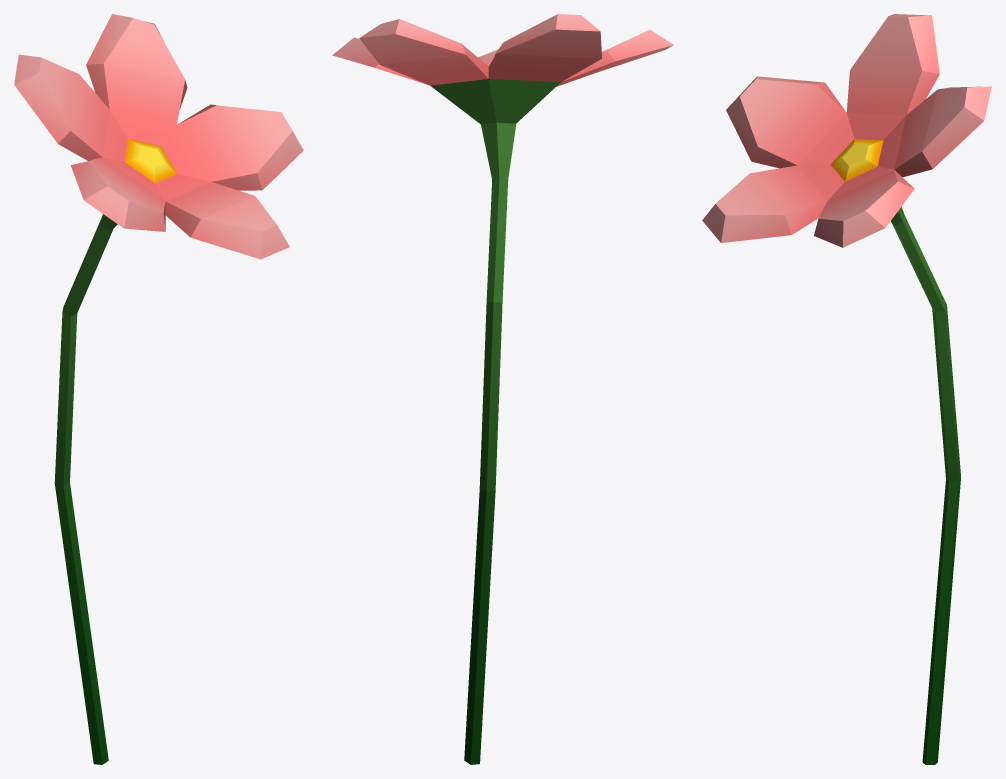
Rendered from Flower_Pink_02.fbx.
The picture shows the model from 3 angles, left to right: view 1: azimuth 30°, elevation 25°; view 2: azimuth 150°, elevation 25°; view 3: azimuth 270°, elevation 25°; orthographic projection. The views are drawn at different scales.
Parts seen in each view (by area): view 1: Flower_Pink_02; view 2: Flower_Pink_02; view 3: Flower_Pink_02.
Boxes of the visible parts, x1,y1,x2,y2 form: Flower_Pink_02: [14, 14, 303, 764]; Flower_Pink_02: [332, 14, 673, 764]; Flower_Pink_02: [702, 14, 991, 764].
Size of the model in its own units: 18.54 by 49.03 by 18.04.
